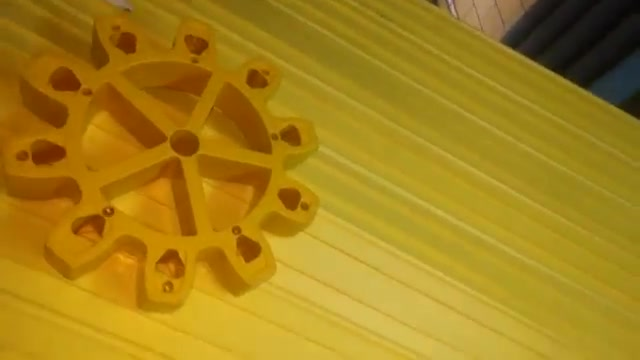gear: (3, 8, 313, 325)
